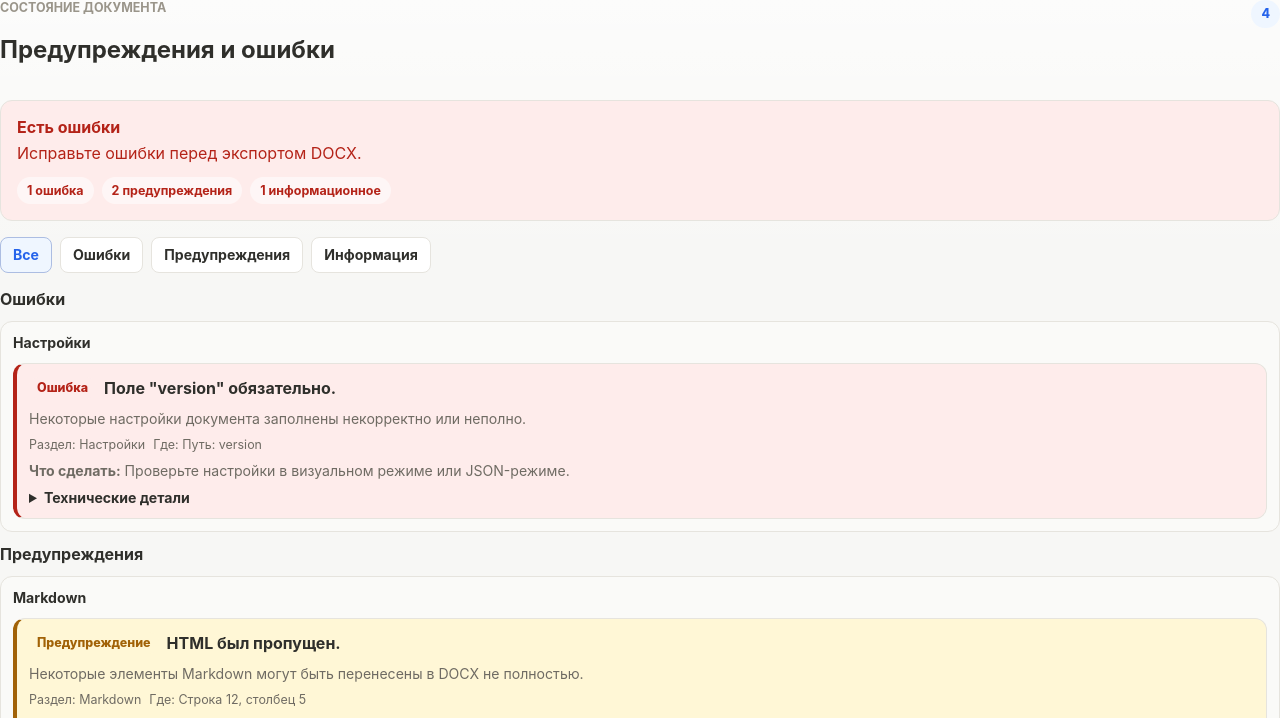
Test: DiagnosticsPanel › shows path, source location and technical details
Expected: the text "Где: Путь: version" is shown, [153, 437, 262, 452]
Click the heading "Технические детали": click(109, 498) [29, 489, 190, 506]
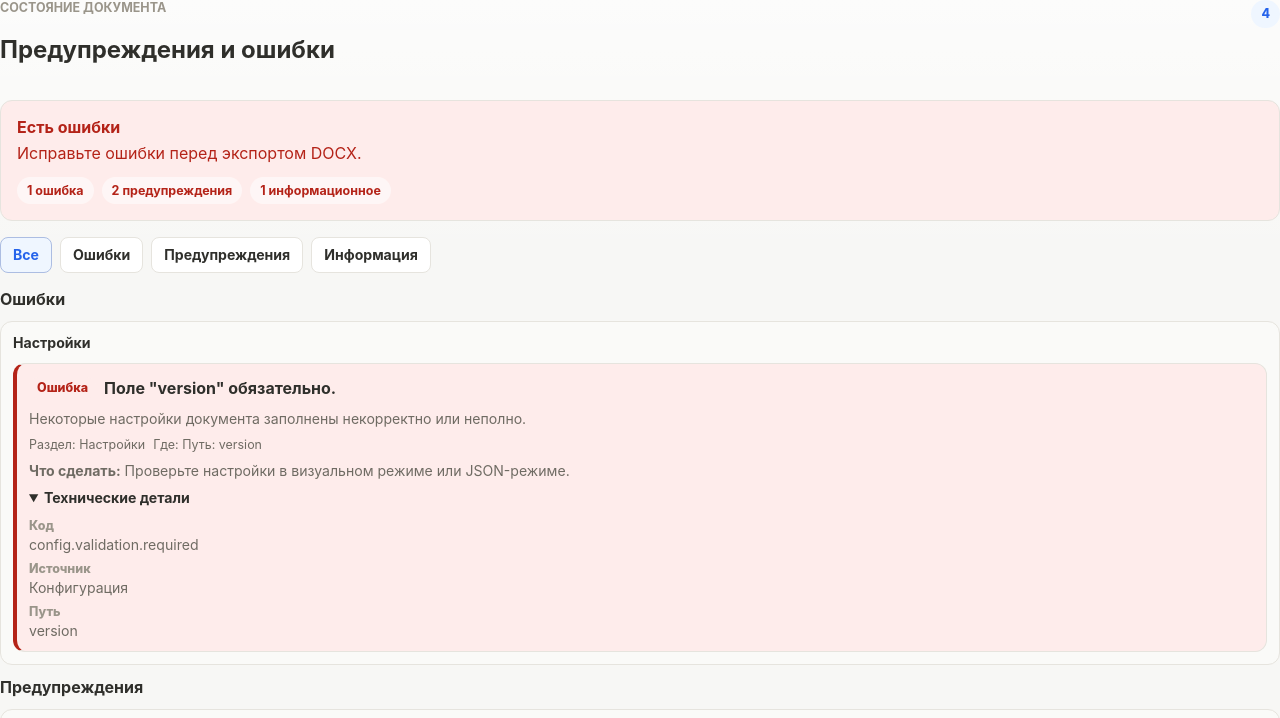
Result: the text "Код" is shown at [29, 518, 54, 533]
Result: the text "config.validation.required" is shown at [29, 536, 199, 553]
